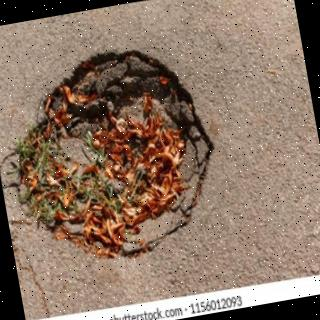pothole: (16, 51, 214, 260)
